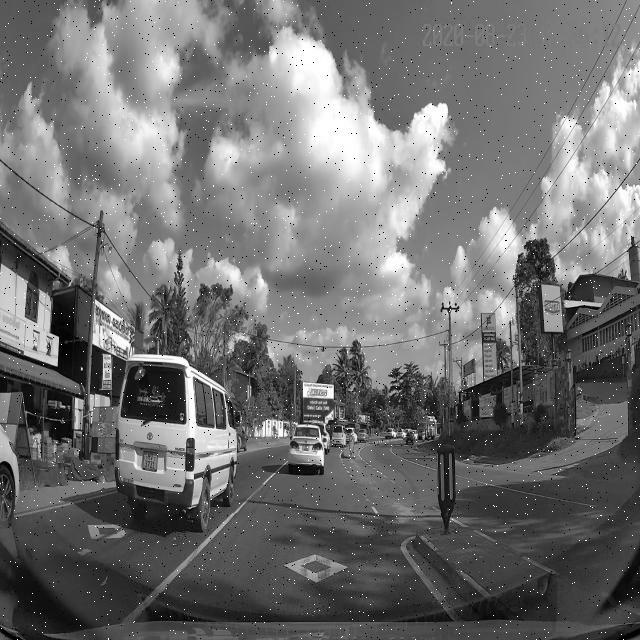diamond: (122, 513, 466, 620)
